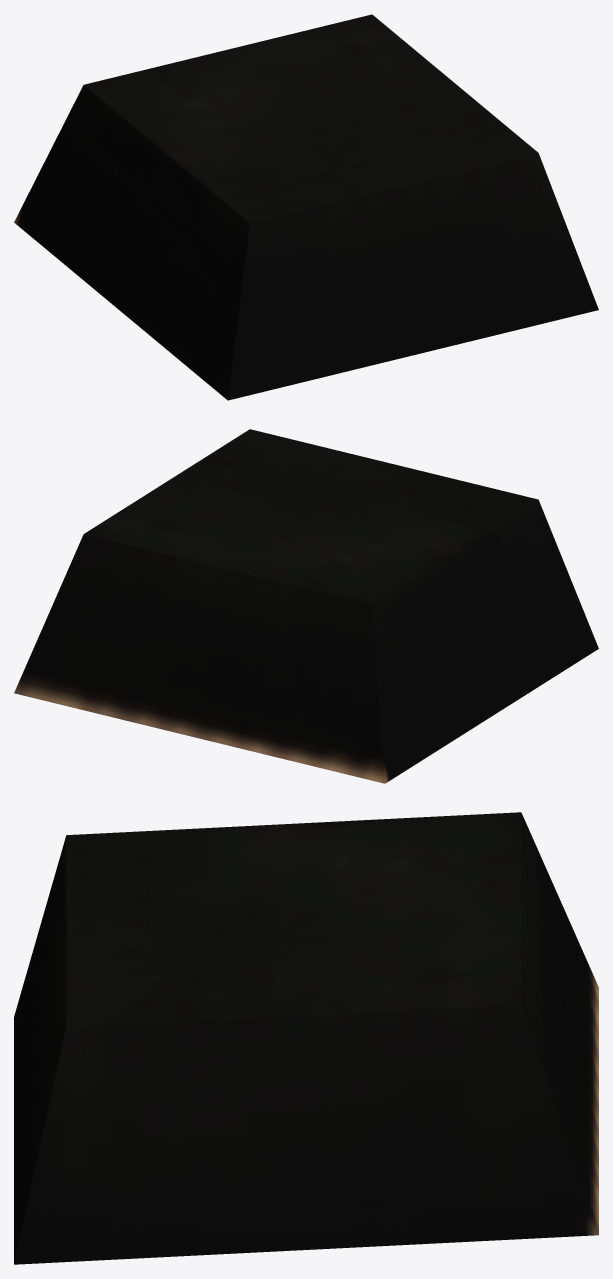
The model's file is link_98__key-104.glb.
The picture shows the model from 3 angles, top to bottom: view 1: azimuth 30°, elevation 25°; view 2: azimuth 150°, elevation 25°; view 3: azimuth 270°, elevation 25°; orthographic projection. The views are drawn at different scales.
Parts seen in each view (by area): view 1: geometry_0; view 2: geometry_0; view 3: geometry_0.
Boxes of the visible parts, left/top/right/bottom form: geometry_0: left=14, top=14, right=598, bottom=400; geometry_0: left=14, top=429, right=598, bottom=783; geometry_0: left=14, top=812, right=598, bottom=1264.
Size of the model in its own units: 0.0719 by 0.0315 by 0.0718.
1 material, 1 textured.
